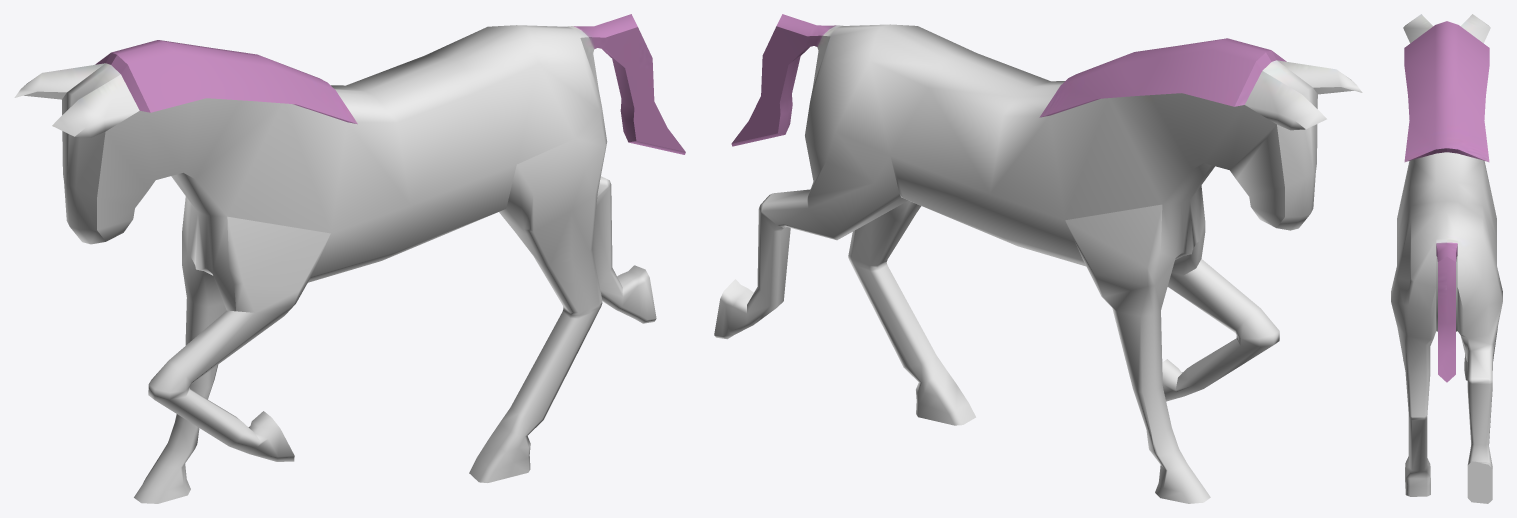
Rendered from caballo7.obj.
3 renders of one model, left to right at view 1: azimuth 30°, elevation 25°; view 2: azimuth 150°, elevation 25°; view 3: azimuth 270°, elevation 25°, orthographic. The views are drawn at different scales.
Visible parts, largest first — view 1: carousel.001_m_carousel; view 2: carousel.001_m_carousel; view 3: carousel.001_m_carousel.
Part boxes in pixels (bbox=[...]): carousel.001_m_carousel: bbox=[14, 14, 685, 503]; carousel.001_m_carousel: bbox=[714, 14, 1362, 503]; carousel.001_m_carousel: bbox=[1391, 14, 1502, 503].
Bounding box in the file's own units: 4.52 × 3.26 × 0.9588.
